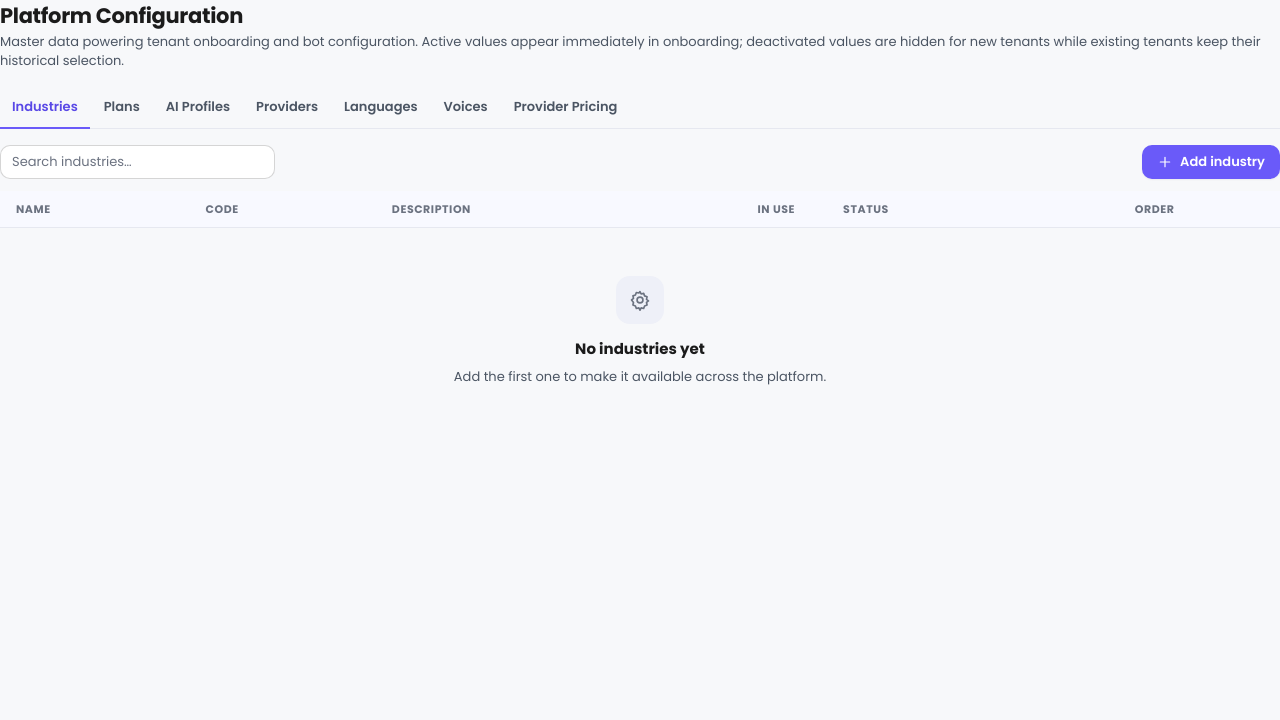
Scenario: PlatformConfig — Add Plan form › renders the currency dropdown with supported currencies
Click the tab "Plans" at coordinates (122, 108), box [92,86,152,128]
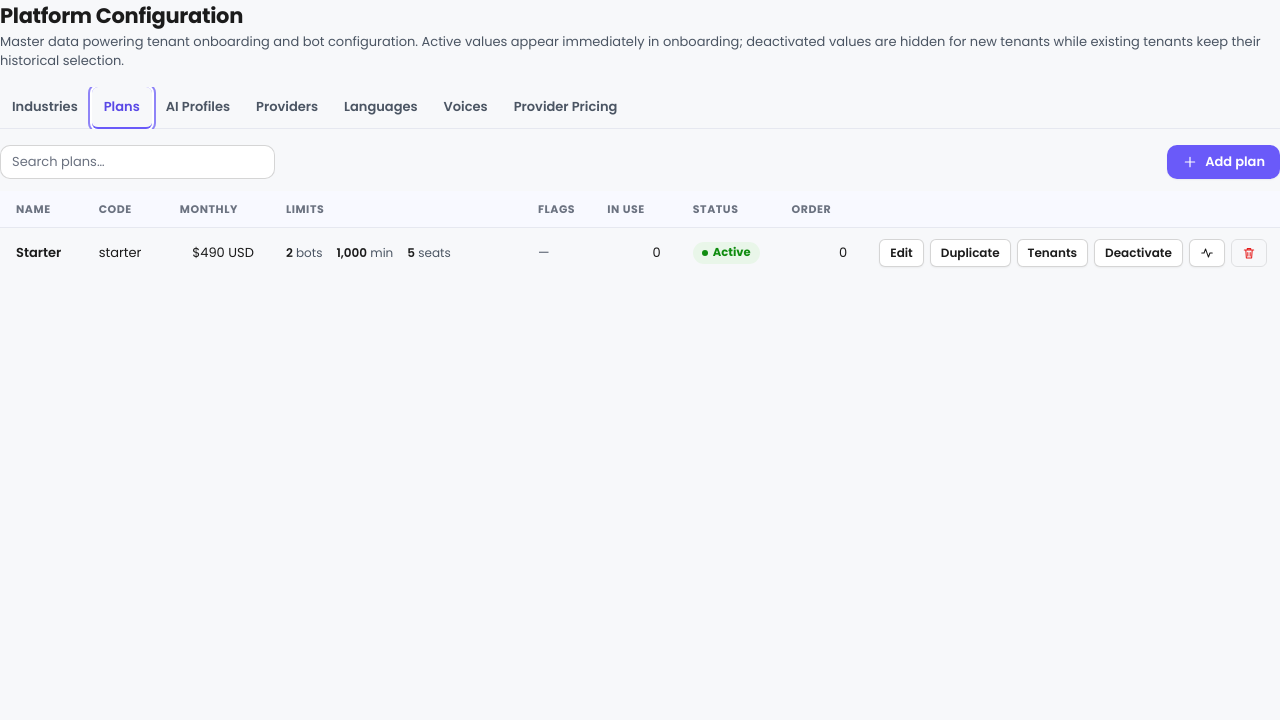
Click the button "Add plan" at coordinates (1224, 162), box [1167,144,1279,178]
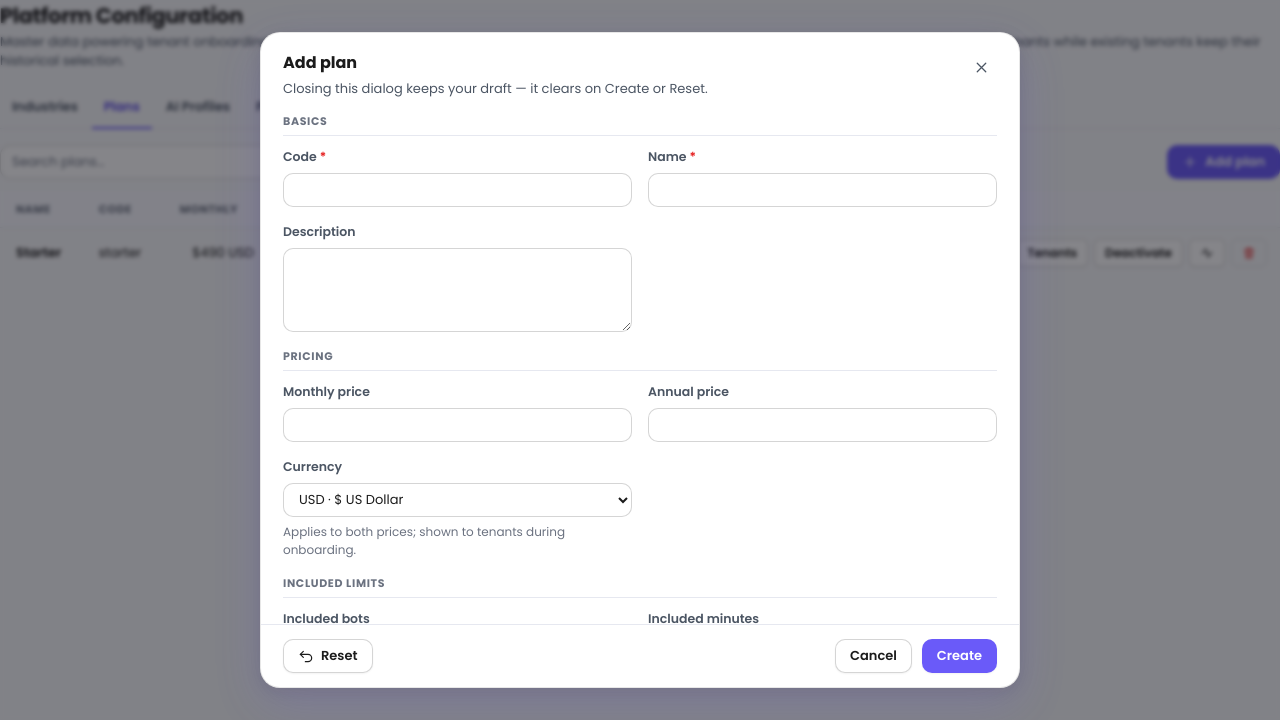
Check: the dialog "Add plan" is shown, box [260,32,1020,688]
Check: the dropdown labelled "Currency" shows "USD · $ US Dollar", box [283,482,632,516]
